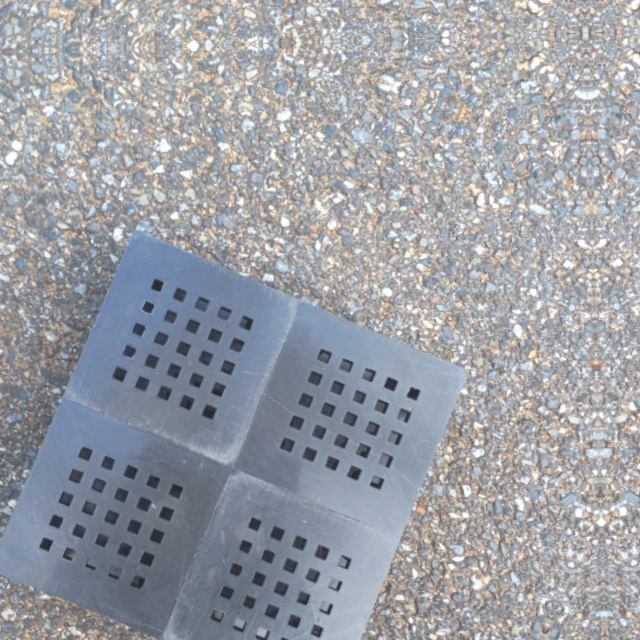pallet: (1, 217, 476, 637)
